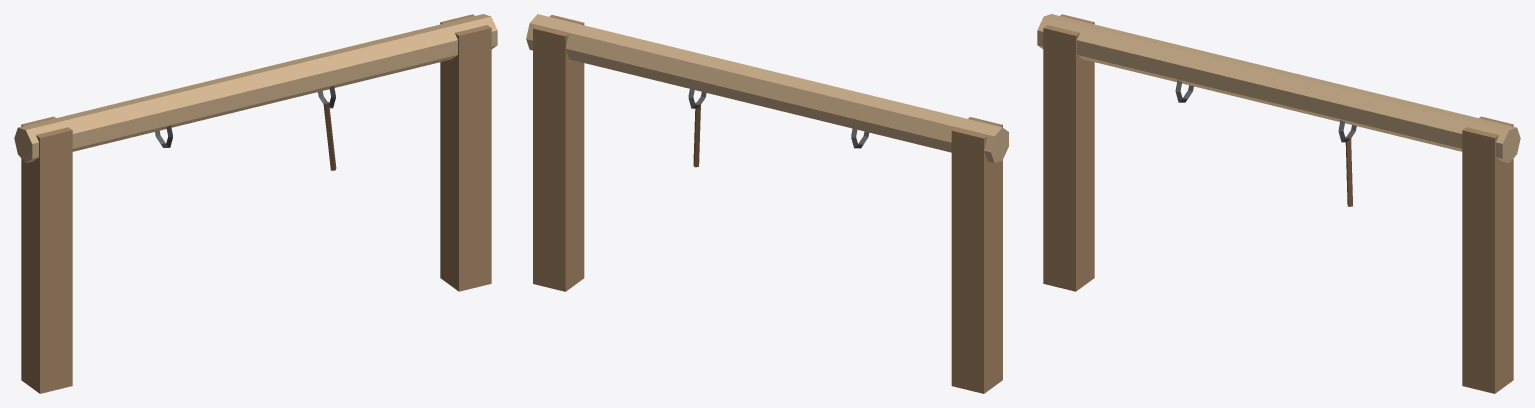
The model's file is SM_Hitching_Post.glb.
The picture shows the model from 3 angles, left to right: view 1: azimuth 30°, elevation 25°; view 2: azimuth 150°, elevation 25°; view 3: azimuth 330°, elevation 25°; orthographic projection.
Parts seen in each view (by area): view 1: SM_Hitching_Post; view 2: SM_Hitching_Post; view 3: SM_Hitching_Post.
Part boxes in pixels (bbox=[...]): SM_Hitching_Post: bbox=[14, 14, 497, 393]; SM_Hitching_Post: bbox=[526, 14, 1008, 393]; SM_Hitching_Post: bbox=[1037, 14, 1520, 393].
Bounding box in the file's own units: 2 × 1.07 × 0.144.
